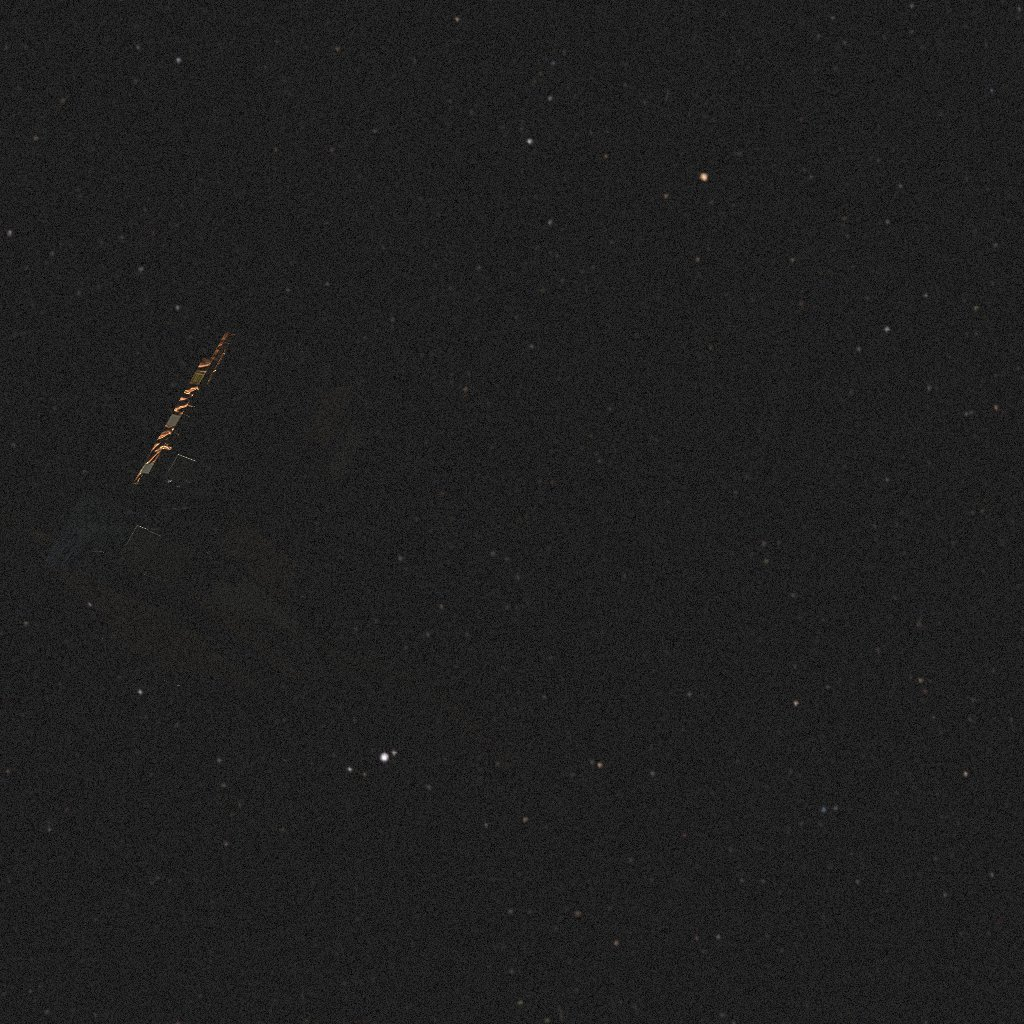soho: (0, 331, 517, 769)
